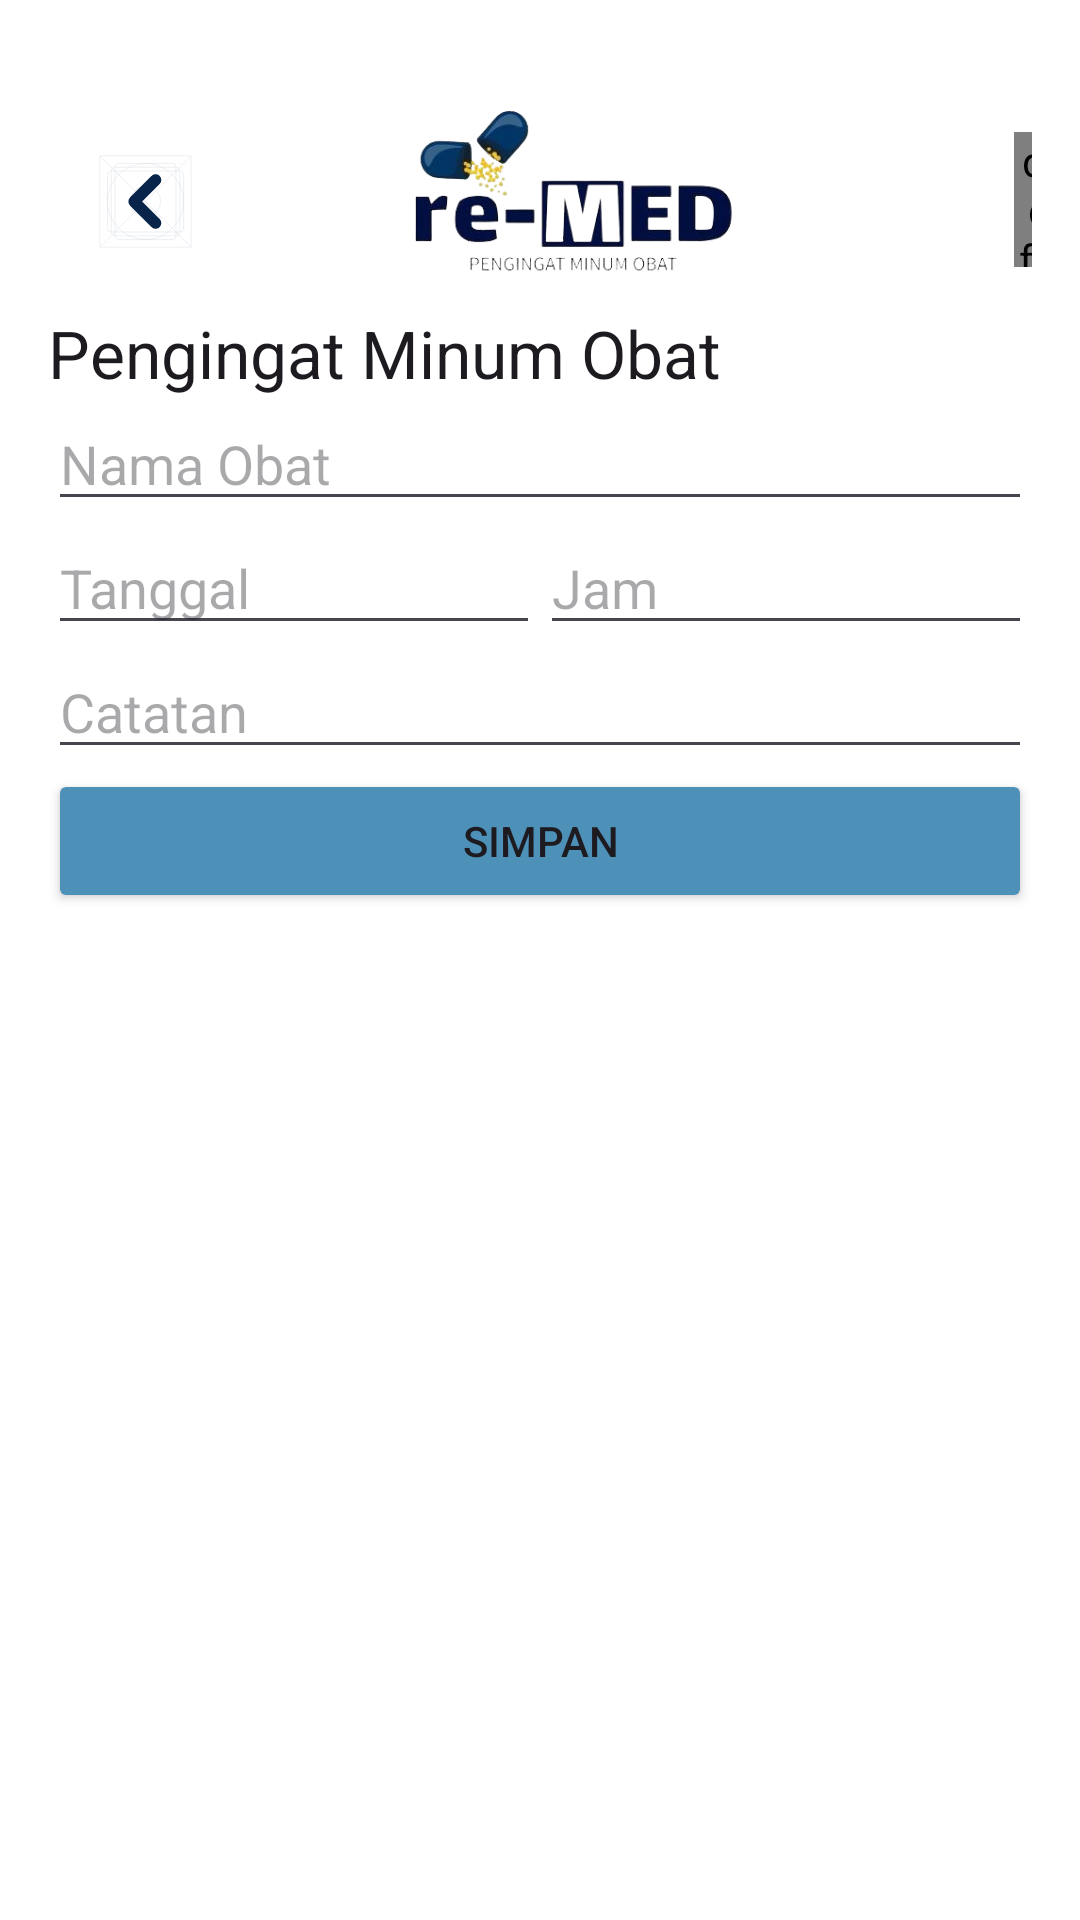

Point at icon controls on the screen. Image size 1080 x 1920, points as point (x, y).
back: point (145, 201)
